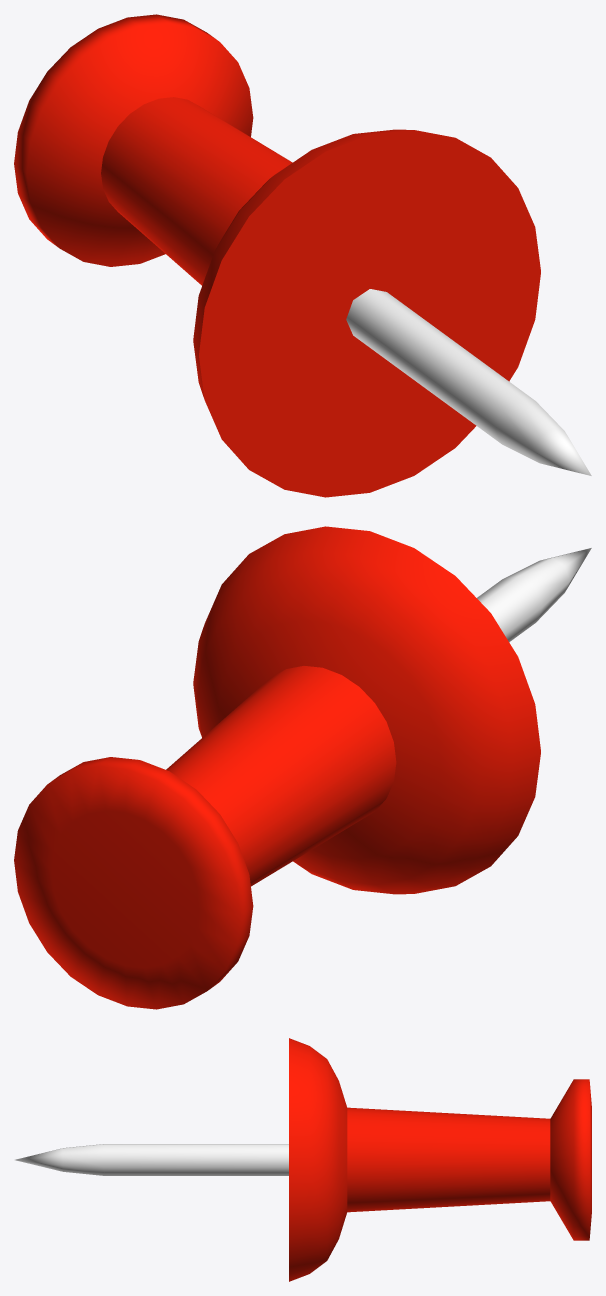
Rendered from Pin.dae.
The picture shows the model from 3 angles, top to bottom: view 1: azimuth 30°, elevation 25°; view 2: azimuth 150°, elevation 25°; view 3: azimuth 270°, elevation 25°; orthographic projection. The views are drawn at different scales.
Parts seen in each view (by area): view 1: Pin; view 2: Pin; view 3: Pin.
Boxes of the visible parts, x1=… form: Pin: x1=14, y1=14, x2=591, y2=497; Pin: x1=14, y1=526, x2=591, y2=1009; Pin: x1=15, y1=1038, x2=591, y2=1281.
Bounding box in the file's own units: 0.0084 × 0.0198 × 0.0084.
